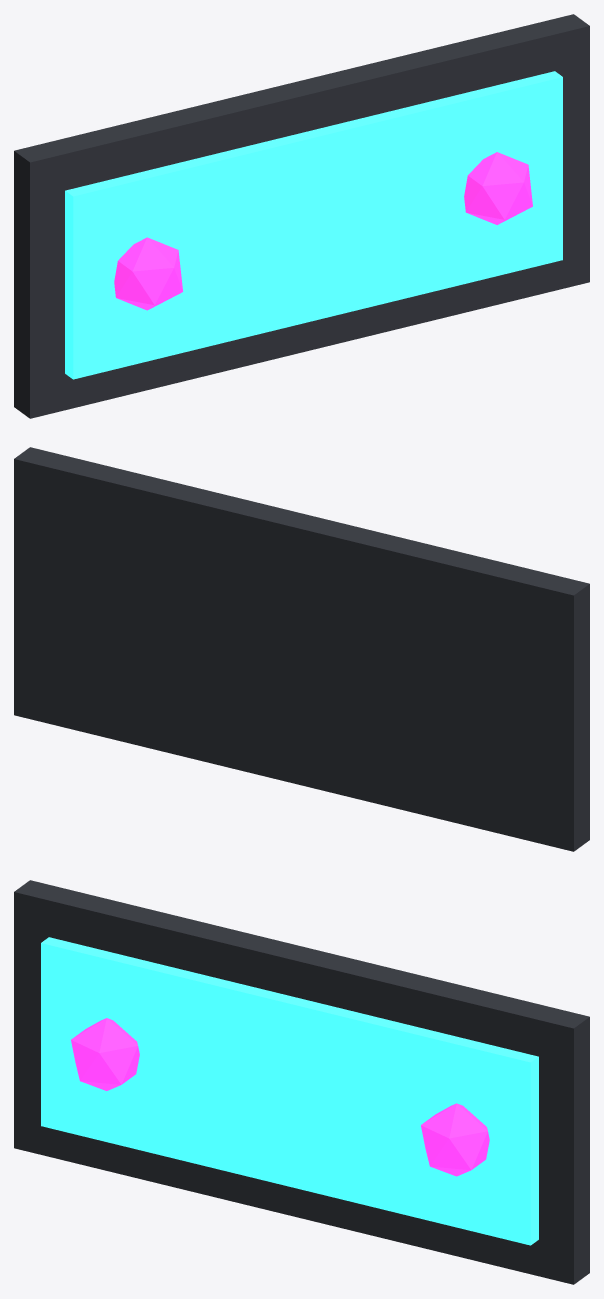
The model's file is neon_sign_strike.fbx.
3 renders of one model, top to bottom at view 1: azimuth 30°, elevation 25°; view 2: azimuth 150°, elevation 25°; view 3: azimuth 330°, elevation 25°, orthographic.
Parts seen in each view (by area): view 1: neon_sign_strike; view 2: neon_sign_strike; view 3: neon_sign_strike.
Part boxes in pixels (bbox=[...]): neon_sign_strike: bbox=[14, 14, 589, 418]; neon_sign_strike: bbox=[14, 447, 589, 851]; neon_sign_strike: bbox=[14, 880, 589, 1284].
Size of the model in its own units: 1.6 by 0.7 by 0.2251.
